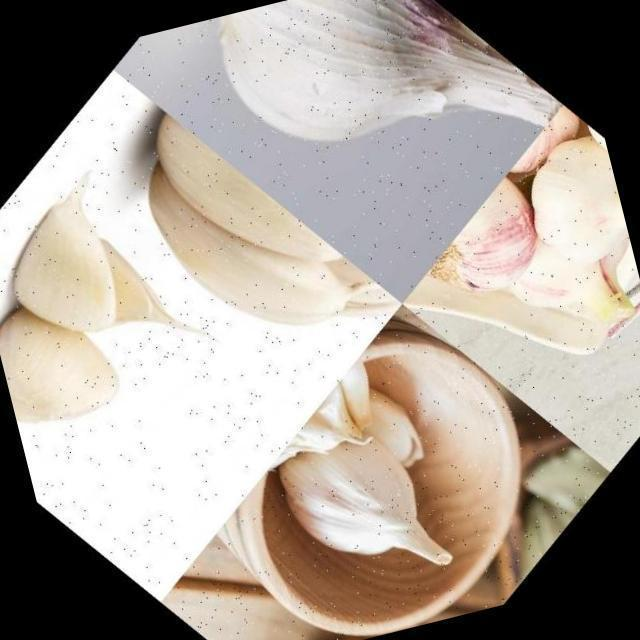garlic: (147, 0, 591, 315), (69, 63, 418, 440), (0, 151, 258, 498), (236, 371, 498, 640), (475, 106, 640, 319), (479, 185, 640, 384), (406, 160, 589, 334)
